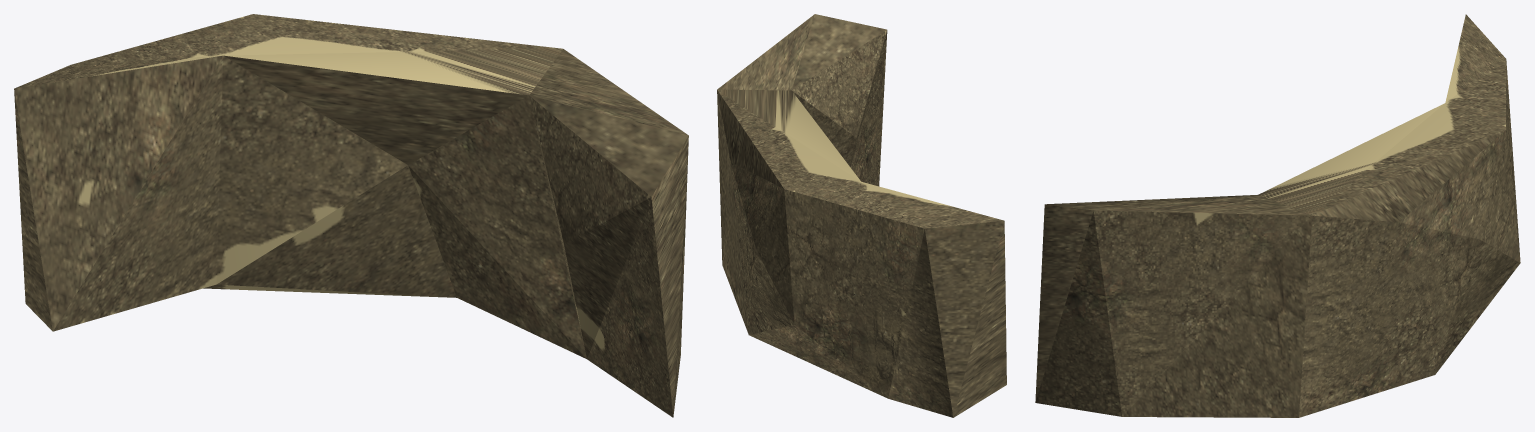
The model's file is CaveWalls2_C_COL.obj.
3 views of the same model, side by side, from view 1: azimuth 30°, elevation 25°; view 2: azimuth 150°, elevation 25°; view 3: azimuth 270°, elevation 25° (orthographic). The views are drawn at different scales.
Parts seen in each view (by area): view 1: CaveWalls2_C.006; view 2: CaveWalls2_C.006; view 3: CaveWalls2_C.006.
Boxes of the visible parts, box(x1,y1,x2,y2) form: CaveWalls2_C.006: box(14, 14, 688, 417); CaveWalls2_C.006: box(717, 14, 1006, 417); CaveWalls2_C.006: box(1035, 14, 1520, 417).
Bounding box in the file's own units: 65.28 × 33.01 × 67.5.
1 material, 1 textured.
